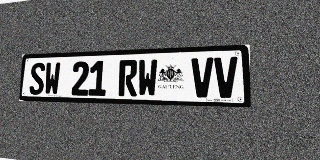1: (88, 61, 107, 96)
2: (71, 61, 89, 96)
R: (118, 60, 138, 96)
S: (29, 62, 45, 95)
V: (214, 57, 238, 98), (191, 57, 214, 98)
W: (137, 59, 158, 97), (44, 62, 61, 95)
